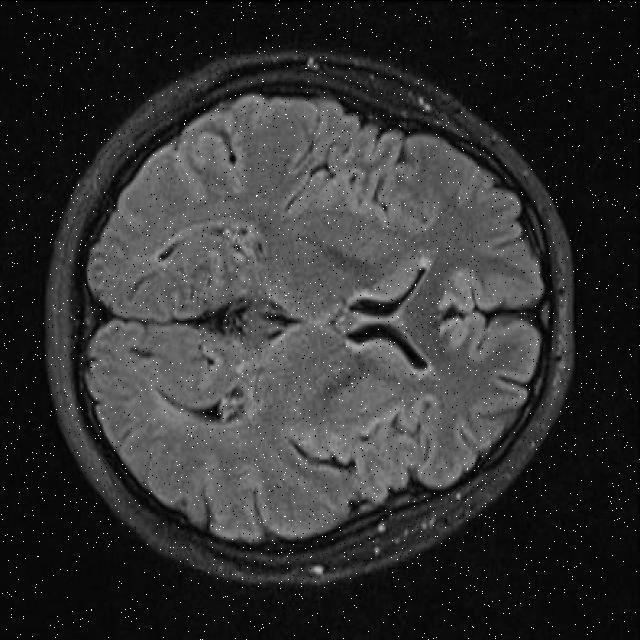No_Tumor: (47, 52, 572, 583)
